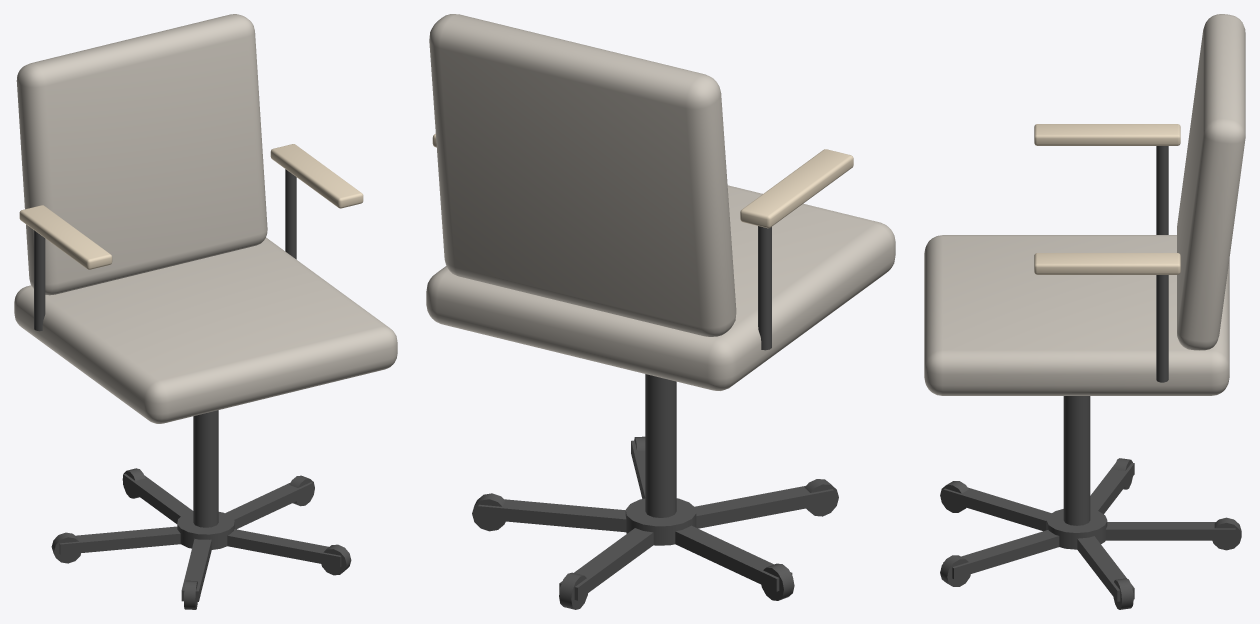
File: mo_desk_chair.glb
3 renders of one model, left to right at view 1: azimuth 30°, elevation 25°; view 2: azimuth 150°, elevation 25°; view 3: azimuth 270°, elevation 25°, orthographic. The views are drawn at different scales.
Parts seen in each view (by area): view 1: back, seat, lift, armcap.001, armcap, arm1, arm3, arm4, hub, arm0, armpost, arm2 (+1 smaller); view 2: back, seat, lift, armcap, arm4, arm2, arm1, arm0, hub, armpost, wheel1, wheel0 (+1 smaller); view 3: seat, back, lift, armcap, armcap.001, arm0, arm3, arm2, hub, arm4, armpost.001, armpost (+4 smaller).
Part boxes in pixels (box(x1,y1,x2,y2)): back: box(16, 14, 267, 295); seat: box(14, 237, 397, 423); lift: box(193, 410, 218, 527); armcap.001: box(270, 144, 363, 208); armcap: box(19, 205, 112, 269); arm1: box(59, 526, 180, 554); arm3: box(227, 529, 341, 567); arm4: box(225, 482, 313, 529); hub: box(177, 511, 234, 549); arm0: box(123, 473, 193, 523); armpost: box(34, 230, 45, 331); arm2: box(181, 538, 211, 601); back: box(429, 14, 736, 336); seat: box(426, 185, 895, 390); lift: box(645, 374, 676, 517); armcap: box(740, 149, 853, 228); arm4: box(478, 499, 626, 532); arm2: box(694, 486, 833, 528); arm1: box(675, 525, 792, 591); arm0: box(559, 528, 653, 600); hub: box(625, 498, 696, 545); armpost: box(758, 226, 771, 350); wheel1: box(761, 563, 794, 600); wheel0: box(559, 572, 587, 609); seat: box(924, 235, 1229, 395); back: box(1177, 14, 1245, 350); lift: box(1063, 396, 1090, 525); armcap: box(1034, 124, 1180, 145); armcap.001: box(1034, 253, 1180, 274); arm0: box(1105, 522, 1235, 540); arm3: box(943, 530, 1059, 579); arm2: box(943, 487, 1051, 531); hub: box(1046, 509, 1107, 549); arm4: box(1077, 536, 1134, 601); armpost.001: box(1156, 275, 1168, 382); armpost: box(1156, 146, 1168, 234).
Bounding box in the file's own units: 0.55 × 0.8691 × 0.5263.
